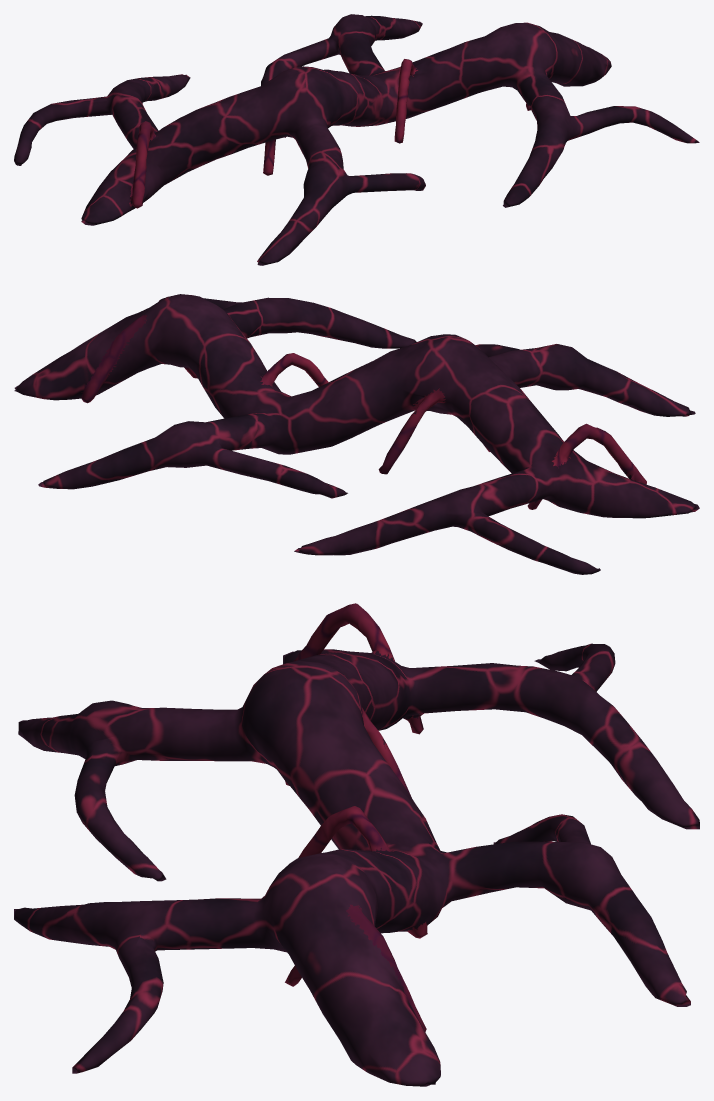
Rendered from raiz_superficial.fbx.
The picture shows the model from 3 angles, top to bottom: view 1: azimuth 30°, elevation 25°; view 2: azimuth 150°, elevation 25°; view 3: azimuth 270°, elevation 25°; orthographic projection. The views are drawn at different scales.
Parts seen in each view (by area): view 1: raices; view 2: raices; view 3: raices.
Part boxes in pixels (x1,y1,x2,y2): raices: [14, 14, 699, 265]; raices: [14, 294, 699, 574]; raices: [14, 603, 699, 1086].
Size of the model in its own units: 6 by 1.01 by 4.
1 material, 1 textured.
